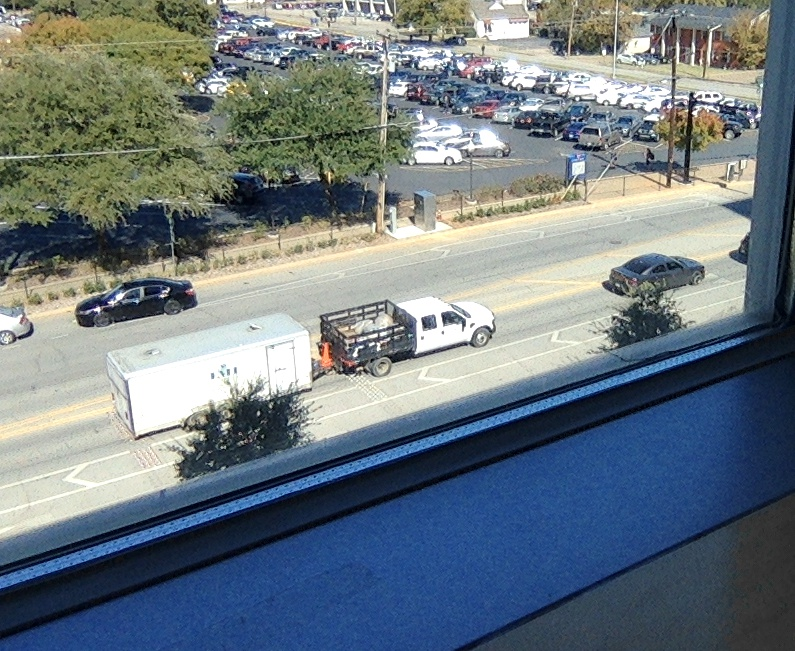car: (300, 300, 495, 387)
